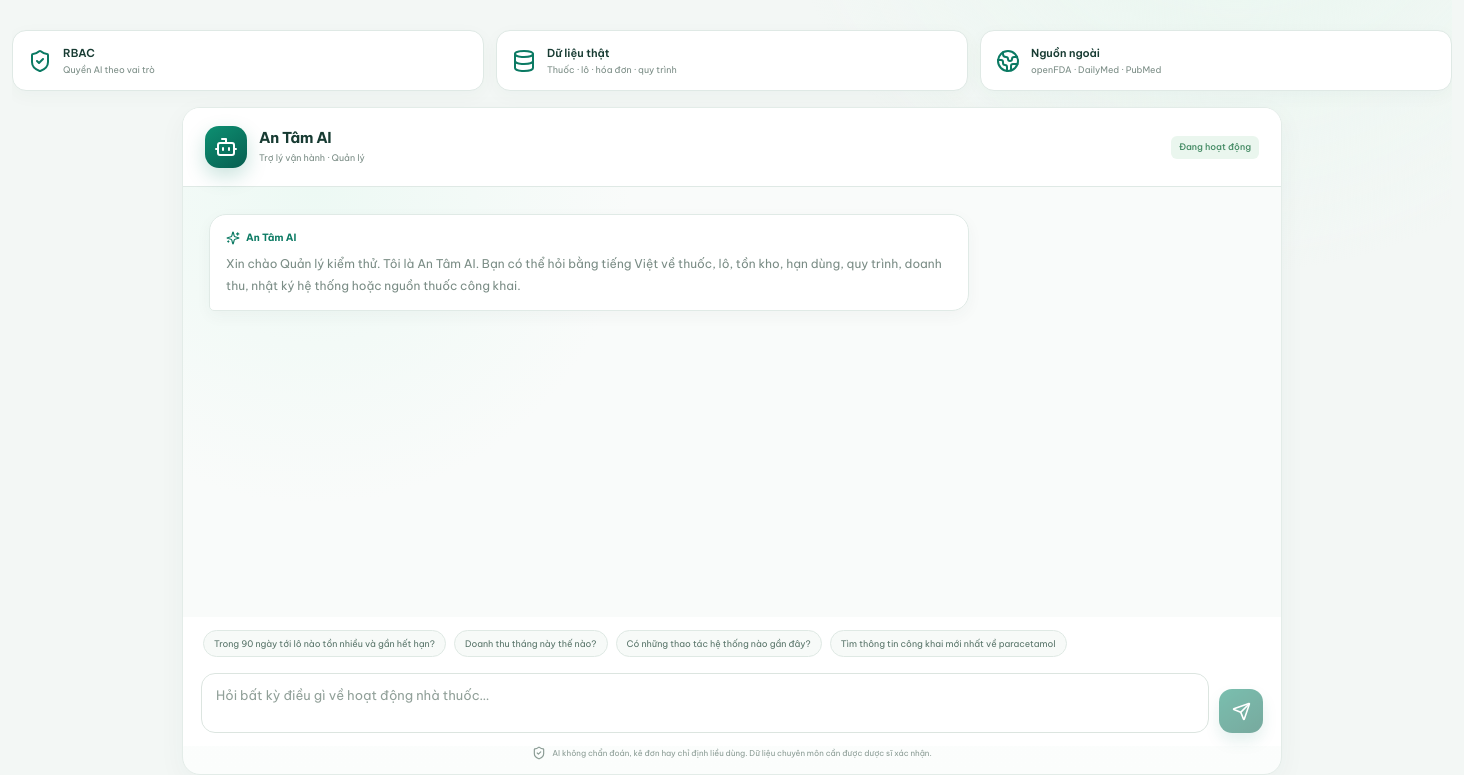
Test case: AI chatbot shows provider error and stays usable
(page scrolled)
Step 1. Type "Kiểm kê như thế nào?" into the text box with placeholder "Hỏi bất kỳ điều gì về hoạt động nhà thuốc…" → [705, 703], box [201, 673, 1209, 733]
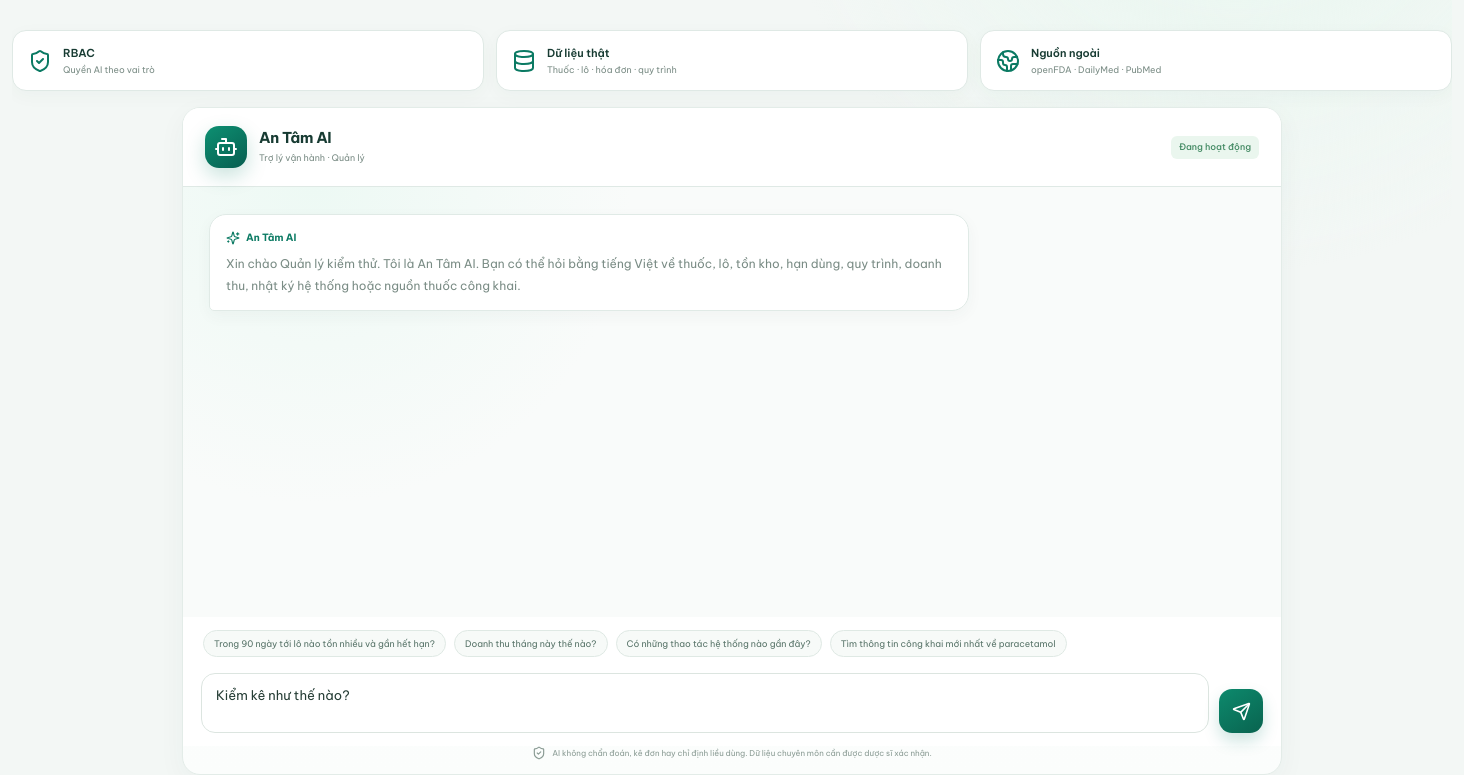
Step 2. Click the button named "Gửi" → [1241, 711], box [1219, 689, 1263, 733]
(page scrolled)
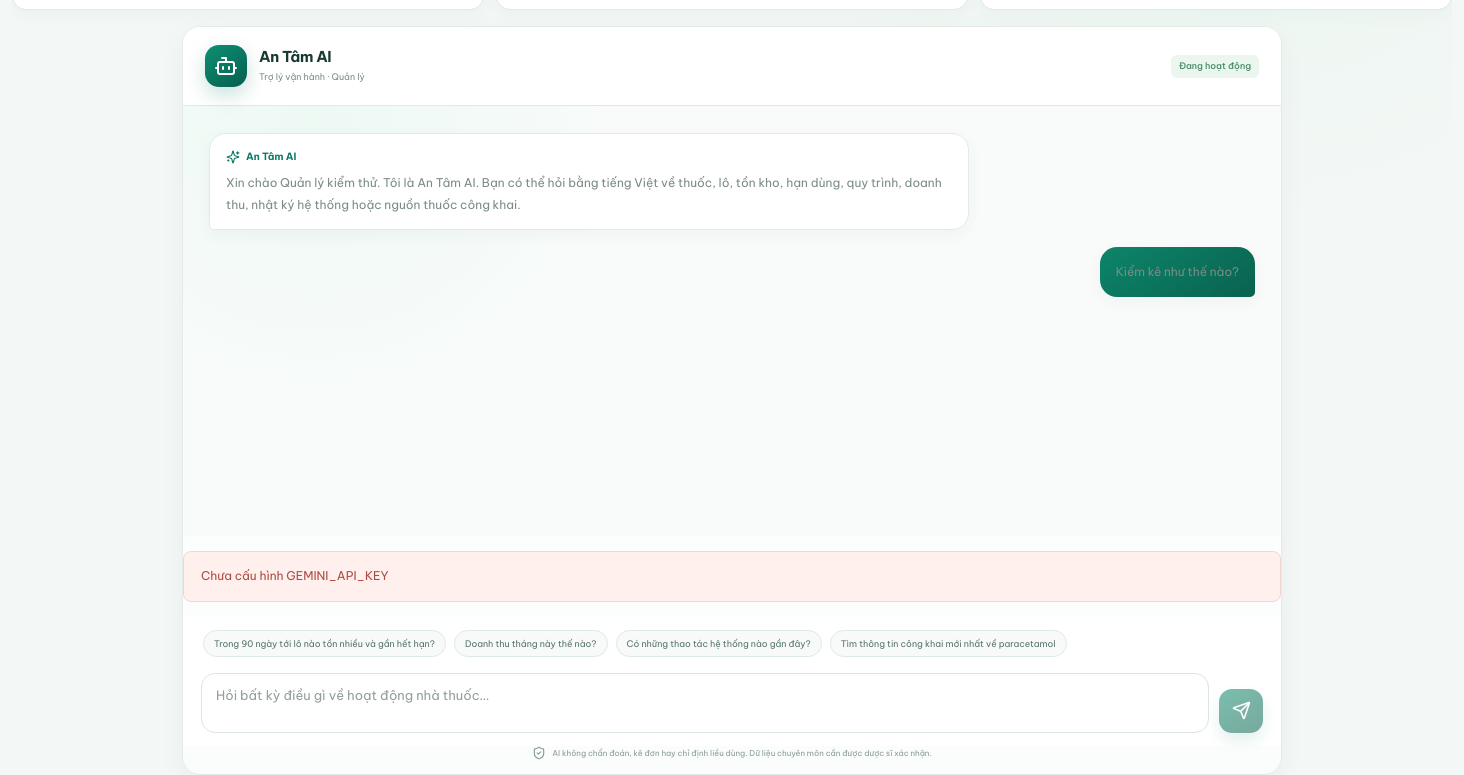
expect the text "Chưa cấu hình GEMINI_API_KEY" is shown: met, box [183, 551, 1281, 602]
expect the button named "Gửi" is disabled: met, box [1219, 689, 1263, 733]
